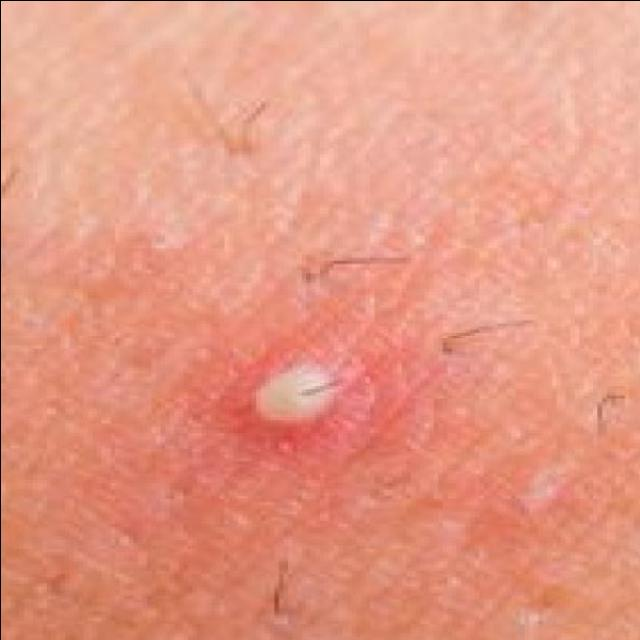pustule: (161, 315, 409, 463)
